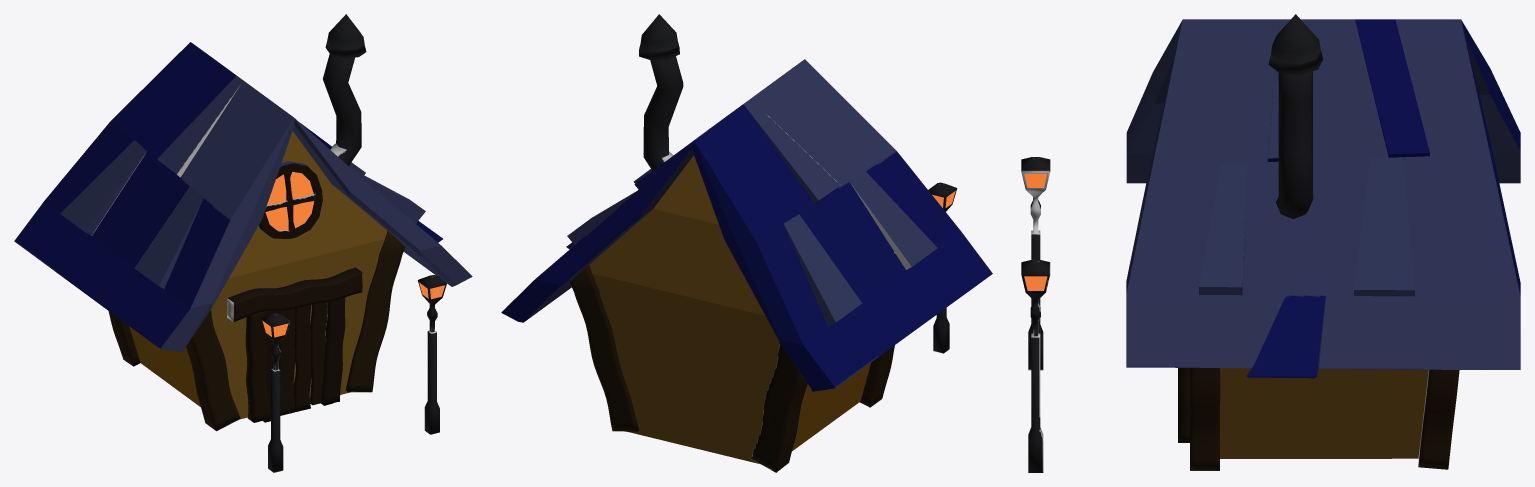
Rendered from house fully texturized 2.1.glb.
3 renders of one model, left to right at view 1: azimuth 30°, elevation 25°; view 2: azimuth 150°, elevation 25°; view 3: azimuth 270°, elevation 25°, orthographic. The views are drawn at different scales.
Visible parts, largest first — view 1: House log 4, House log 4.002, House log 4.001; view 2: House log 4; view 3: House log 4, House log 4.001.
Boxes of the visible parts, x1=… form: House log 4: x1=14, y1=14, x2=472, y2=472; House log 4.002: x1=265, y1=172, x2=314, y2=230; House log 4.001: x1=262, y1=282, x2=444, y2=337; House log 4: x1=501, y1=14, x2=992, y2=472; House log 4: x1=1021, y1=14, x2=1520, y2=472; House log 4.001: x1=1024, y1=173, x2=1047, y2=290.
Bounding box in the file's own units: 29.25 × 29.73 × 28.68.
Materials: 2 (1 with a texture image).
